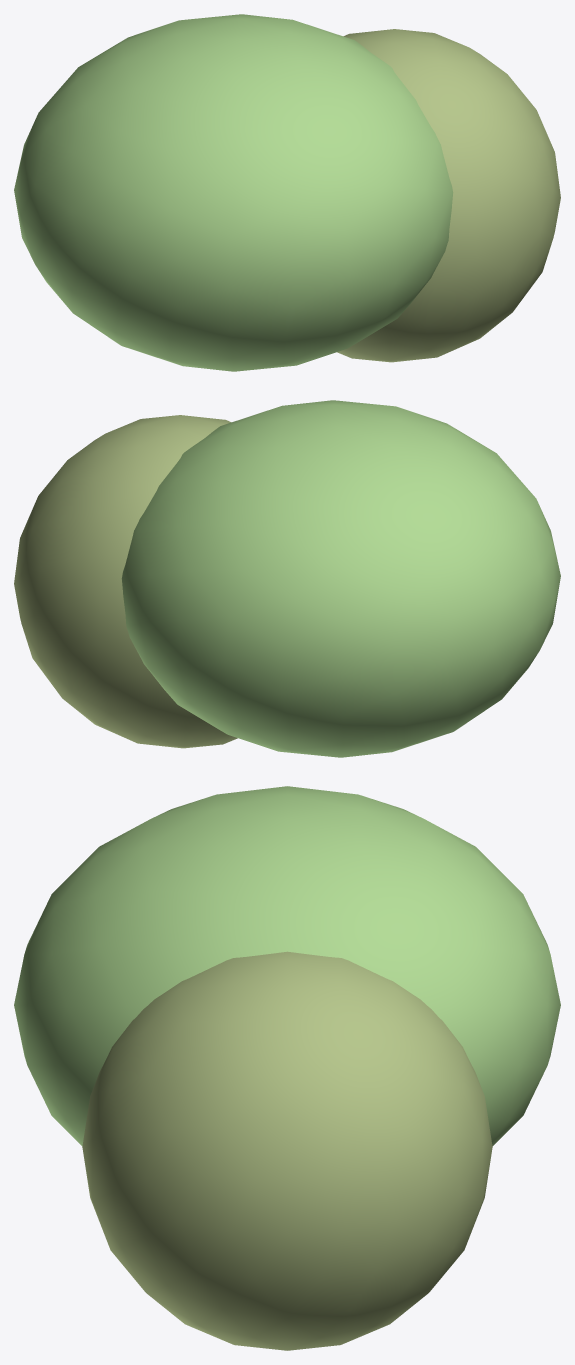
Rendered from shrub_ultra.glb.
3 views of the same model, one above another, from view 1: azimuth 30°, elevation 25°; view 2: azimuth 150°, elevation 25°; view 3: azimuth 270°, elevation 25° (orthographic). The views are drawn at different scales.
Parts seen in each view (by area): view 1: Canopy_green, Canopy_olive; view 2: Canopy_green, Canopy_olive; view 3: Canopy_olive, Canopy_green.
Boxes of the visible parts, <box> form: Canopy_green: <box>14,14,453,371</box>; Canopy_olive: <box>337,29,560,362</box>; Canopy_green: <box>121,400,560,757</box>; Canopy_olive: <box>14,415,237,748</box>; Canopy_olive: <box>82,951,492,1350</box>; Canopy_green: <box>14,786,560,1146</box>.
Bounding box in the file's own units: 1.02 × 0.68 × 0.8.
